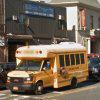Bus: (15, 39, 93, 91)
